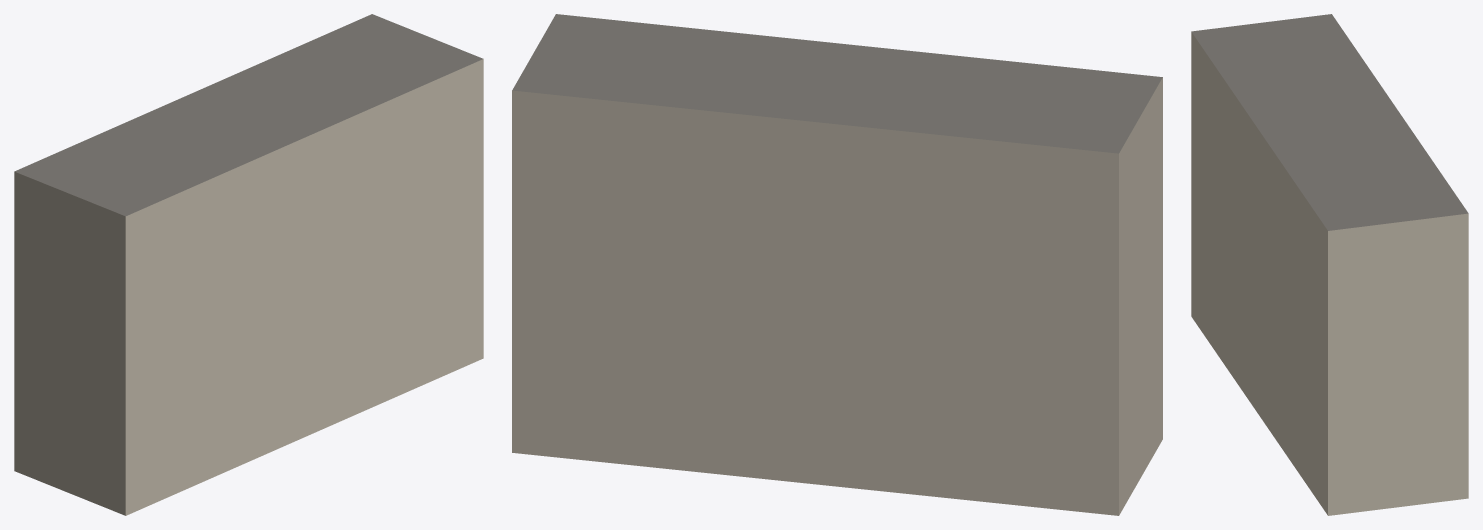
The picture shows the model from 3 angles, left to right: view 1: azimuth 30°, elevation 25°; view 2: azimuth 150°, elevation 25°; view 3: azimuth 270°, elevation 25°; orthographic projection. The views are drawn at different scales.
Visible parts, largest first — view 1: HP-w380340000; view 2: HP-w380340000; view 3: HP-w380340000.
Part boxes in pixels (x1,y1,x2,y2): HP-w380340000: (14,14,483,515); HP-w380340000: (512,14,1162,515); HP-w380340000: (1191,14,1468,515).
Size of the model in its own units: 24.5 by 15 by 13.24.
